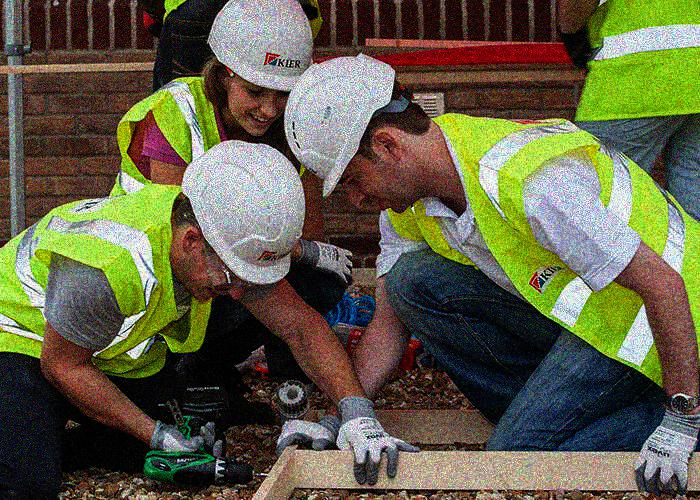helmet: (281, 54, 433, 211), (169, 139, 308, 304), (205, 1, 314, 137)
